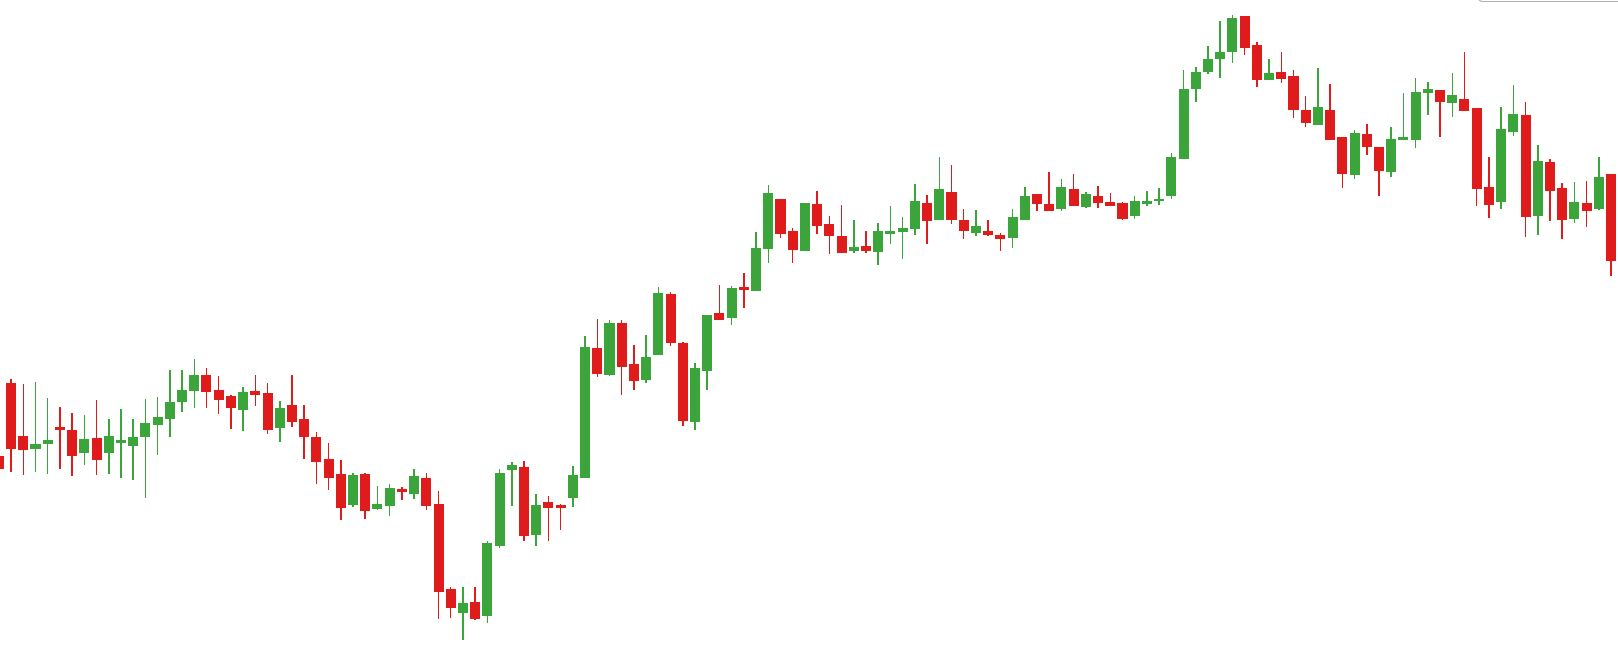buy: (615, 305, 702, 435)
